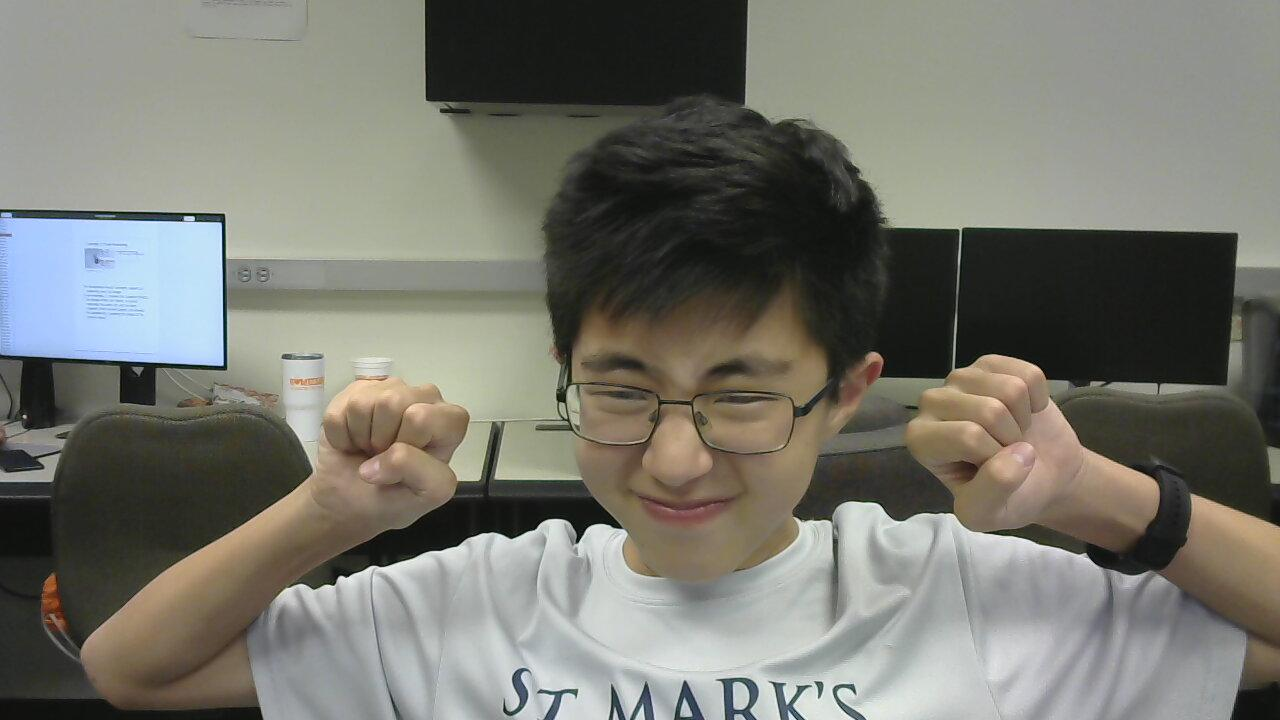fist: (888, 344, 1092, 554), (293, 362, 491, 558)
